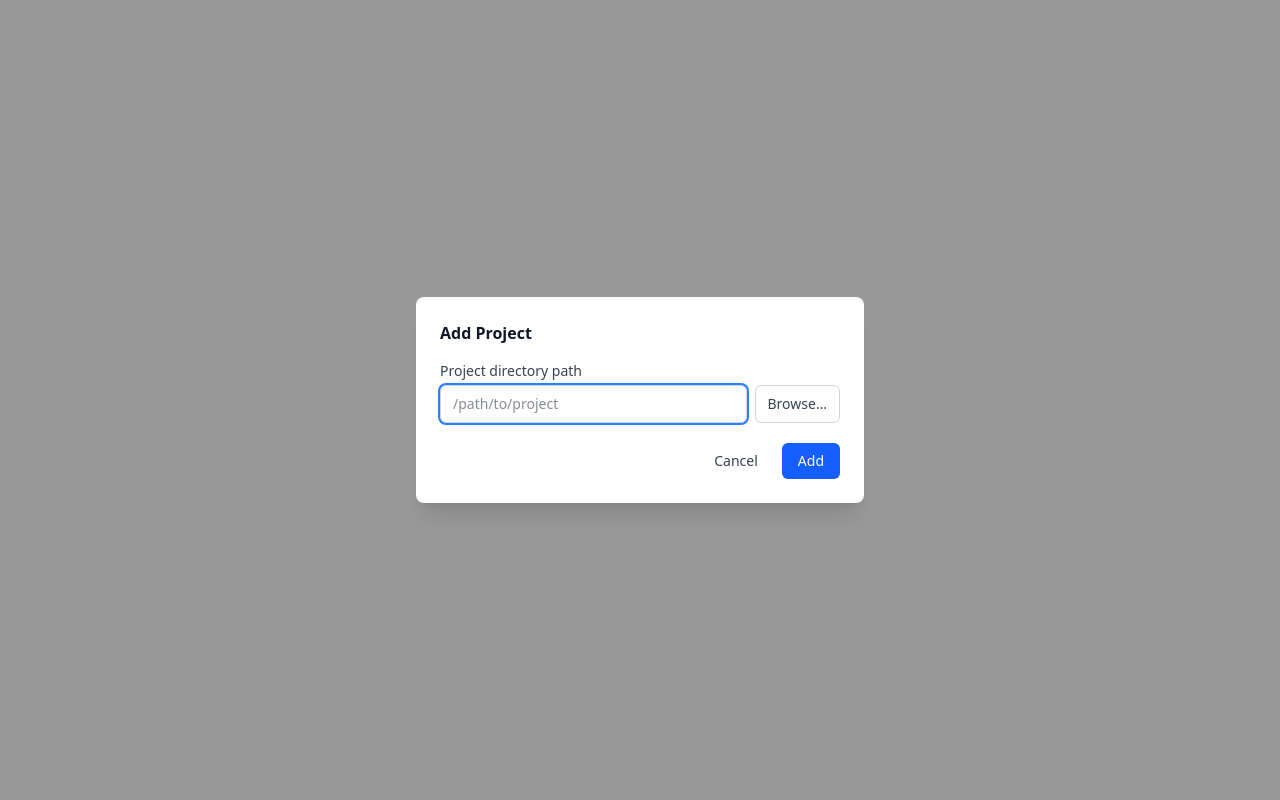
AddProjectDialog › shows error when submitting empty path
This screenshot has width=1280, height=800.
Click the button "Add".
click(811, 461)  # box x1=782 y1=443 x2=840 y2=479
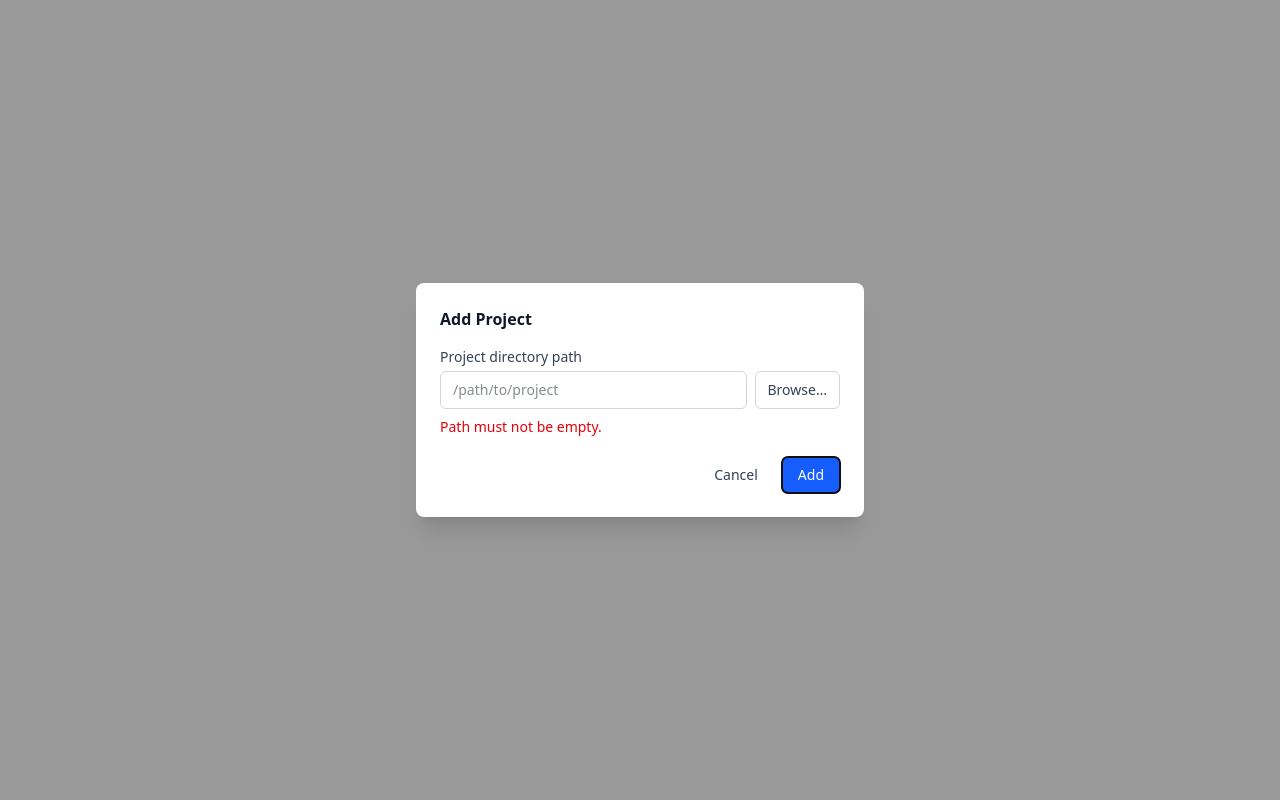
expect the text "Path must not be empty." is shown: met, box x1=440 y1=417 x2=602 y2=436
